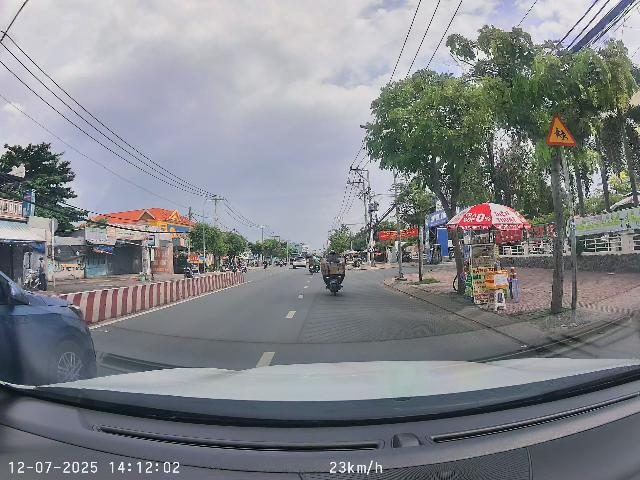225-chu-y-tre-em: (547, 114, 577, 147)
